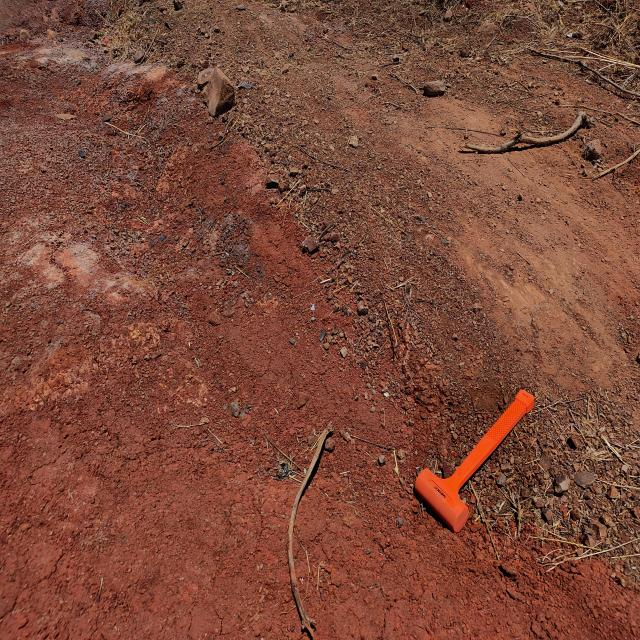Orange_hammer: (413, 388, 535, 533)
